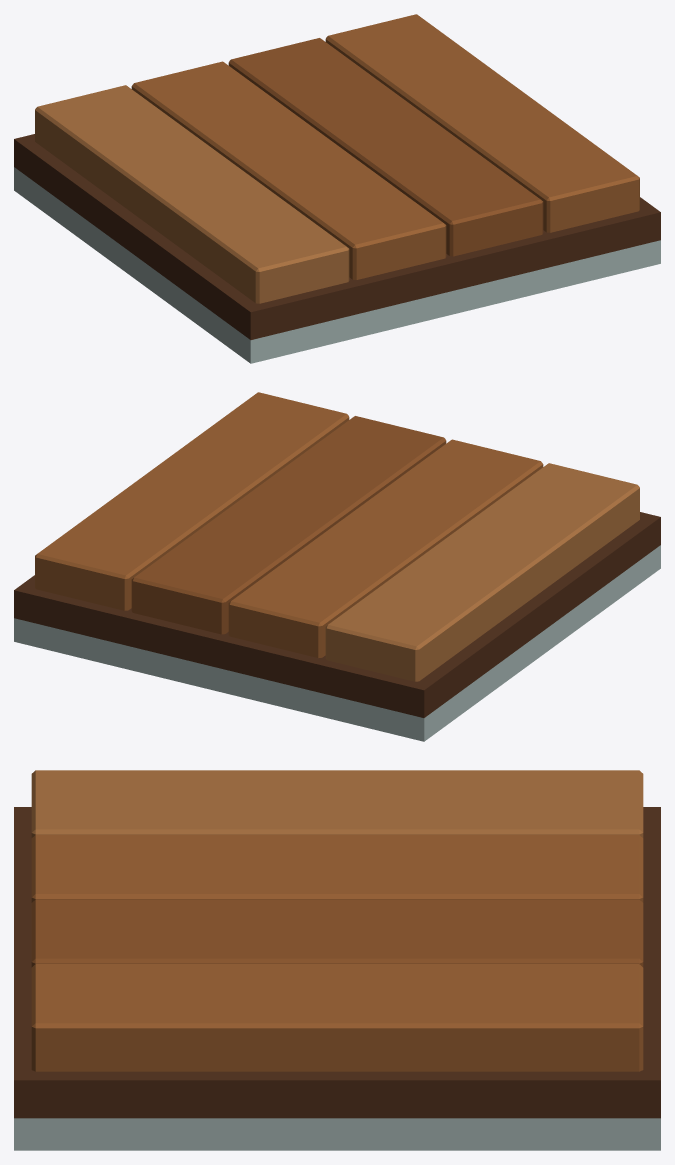
The model's file is floor_1m.glb.
3 views of the same model, one above another, from view 1: azimuth 30°, elevation 25°; view 2: azimuth 150°, elevation 25°; view 3: azimuth 270°, elevation 25° (orthographic). The views are drawn at different scales.
Visible parts, largest first — view 1: SM_Floor_1m; view 2: SM_Floor_1m; view 3: SM_Floor_1m.
Part boxes in pixels (x1,y1,x2,y2): SM_Floor_1m: (14, 14, 660, 363); SM_Floor_1m: (14, 392, 660, 741); SM_Floor_1m: (14, 770, 660, 1150).
Bounding box in the file's own units: 1 × 0.2 × 1.
